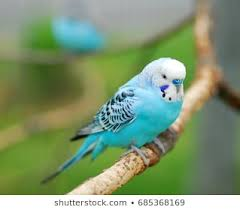budgie: (36, 56, 189, 186)
